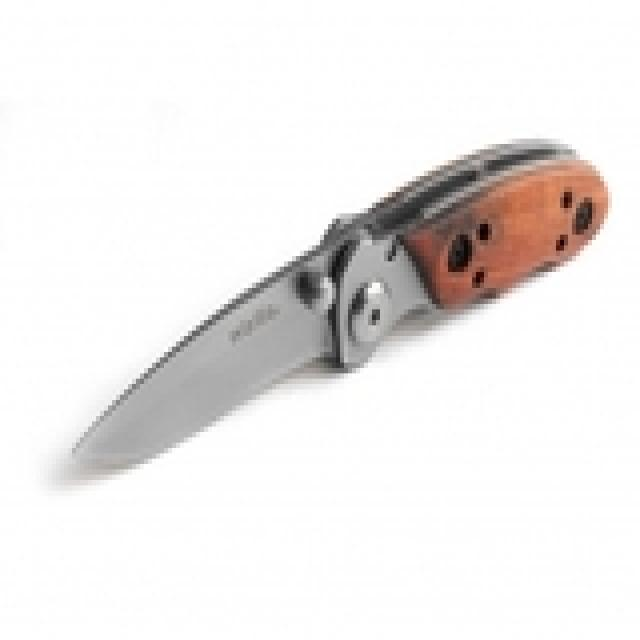Knife: (54, 126, 618, 535)
